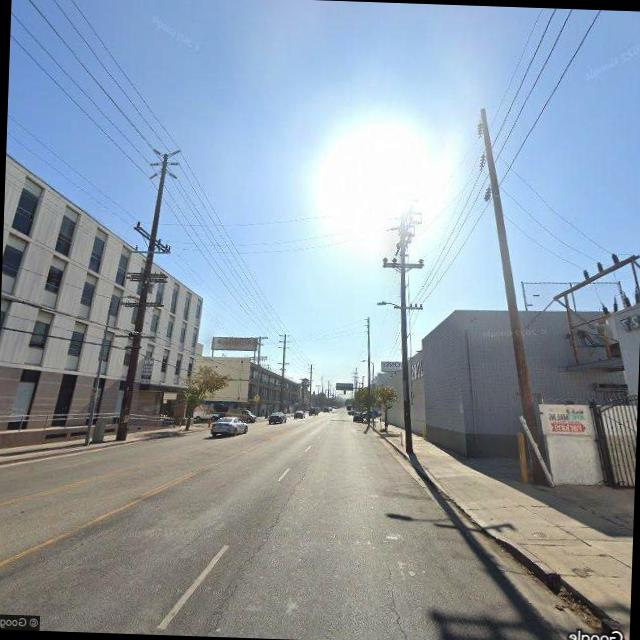pothole: (246, 469, 306, 564), (380, 561, 422, 640)
